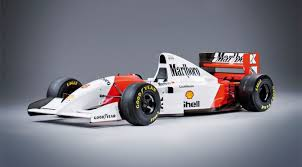f1_car: (22, 43, 281, 134)
